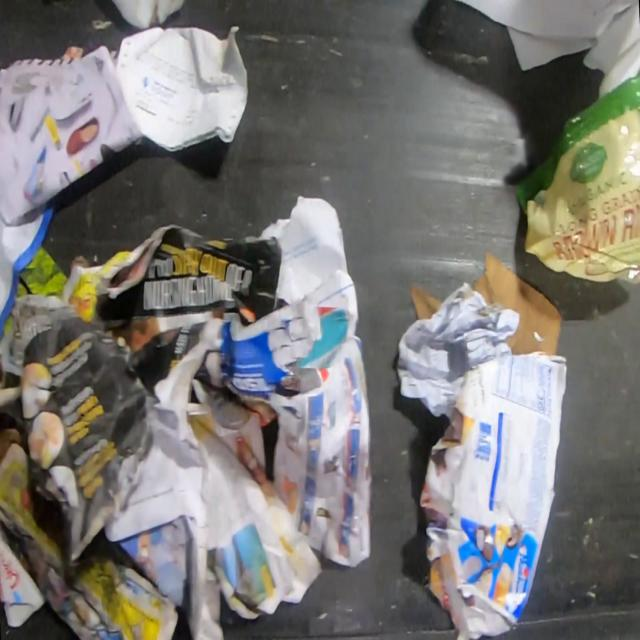cardboard: (418, 352, 568, 639), (470, 247, 561, 356)
soft_plastic: (517, 65, 640, 292)
